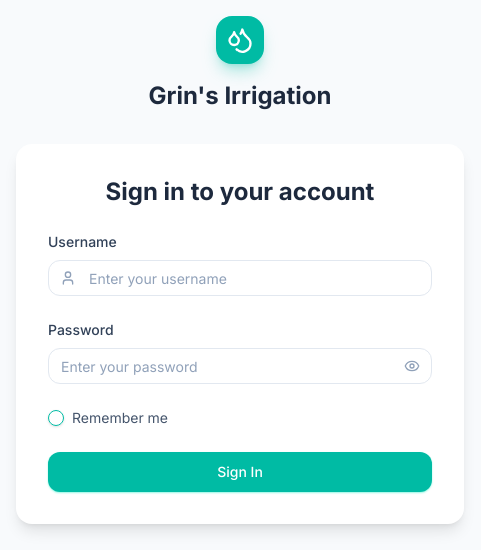
LoginPage › disables inputs during loading
Type "testuser" into the field with test id "username-input" at (240, 278), box [48,260,432,296]
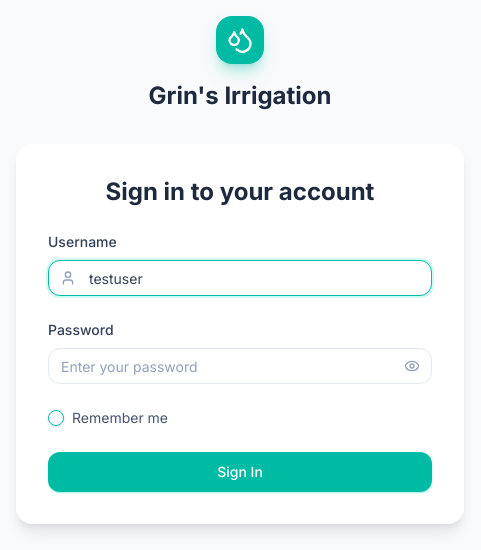
Type "password123" into the password field with test id "password-input" at (240, 366), box [48,348,432,384]
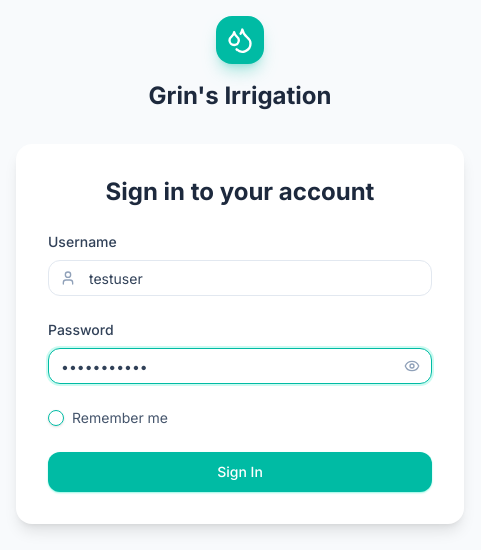
Click the button with test id "login-btn" at (240, 472), box [48,452,432,492]
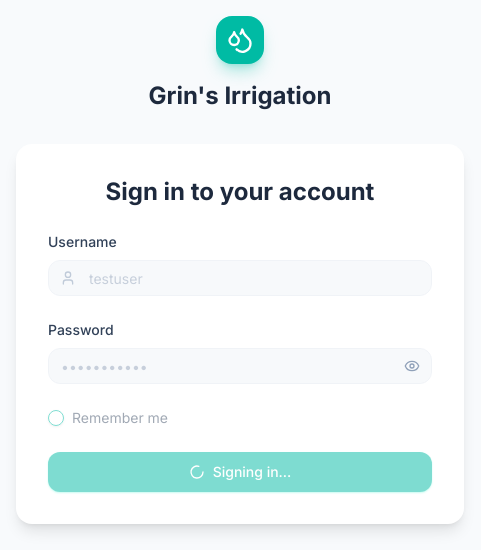
Expected: the field with test id "username-input" is disabled, [48,260,432,296]
Expected: the password field with test id "password-input" is disabled, [48,348,432,384]
Expected: the button with test id "login-btn" is disabled, [48,452,432,492]
